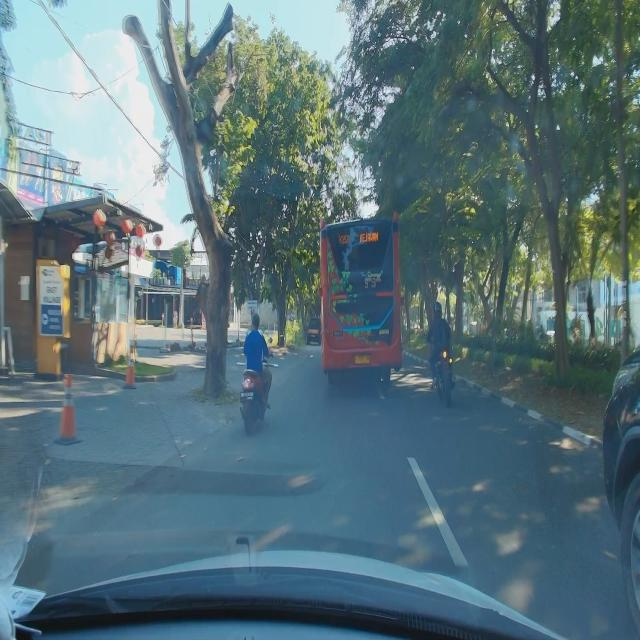bus: (318, 210, 404, 390)
license-plate: (354, 354, 371, 365)
